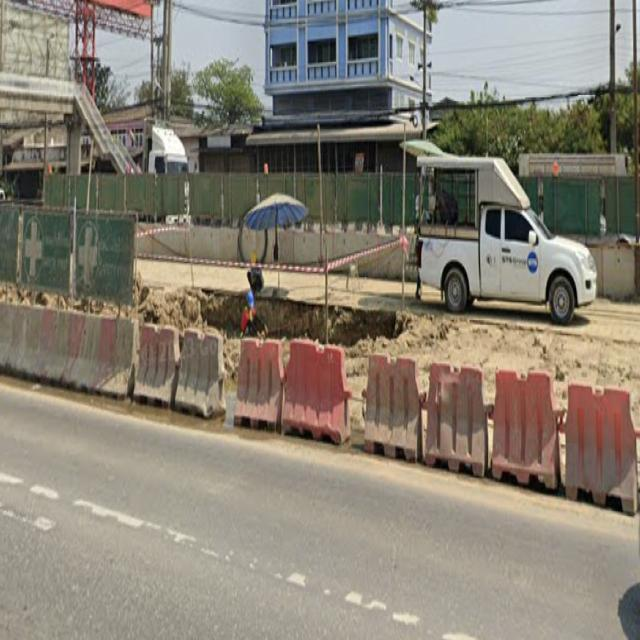fallen_object: (356, 337, 491, 474), (215, 329, 337, 464), (55, 293, 171, 409), (551, 371, 640, 519), (486, 365, 569, 512), (0, 281, 78, 389), (163, 327, 240, 432)
